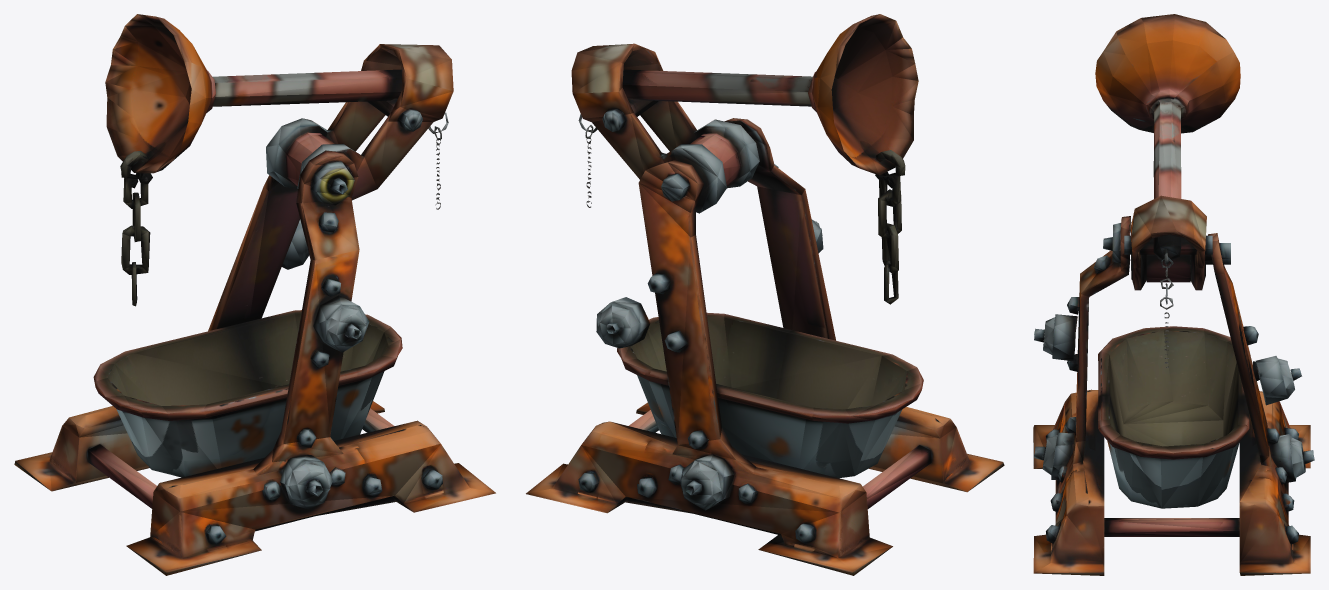
Rendered from wpn_catapult.glb.
The picture shows the model from 3 angles, left to right: view 1: azimuth 30°, elevation 25°; view 2: azimuth 150°, elevation 25°; view 3: azimuth 270°, elevation 25°; orthographic projection. The views are drawn at different scales.
Visible parts, largest first — view 1: tripo_node_97f44d0f; view 2: tripo_node_97f44d0f; view 3: tripo_node_97f44d0f.
Part boxes in pixels (x1=…): tripo_node_97f44d0f: x1=14, y1=14, x2=495, y2=575; tripo_node_97f44d0f: x1=526, y1=14, x2=1004, y2=575; tripo_node_97f44d0f: x1=1033, y1=14, x2=1314, y2=575.
Bounding box in the file's own units: 0.7656 × 0.9973 × 0.5728.
Materials: 1 (1 with a texture image).
